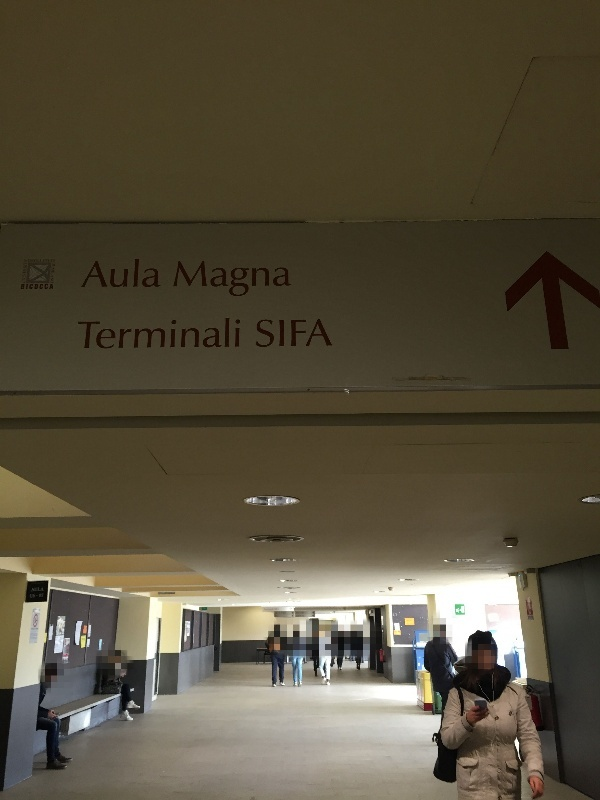text: (193, 260, 208, 299), (209, 260, 224, 299), (225, 260, 240, 299), (241, 260, 256, 299), (257, 260, 272, 299), (273, 260, 288, 299), (225, 318, 241, 351), (179, 260, 192, 299), (81, 318, 96, 351), (97, 318, 112, 351), (113, 318, 128, 351), (129, 318, 144, 351), (145, 318, 160, 351), (161, 318, 176, 351), (177, 318, 192, 351), (193, 318, 208, 351), (209, 318, 224, 351), (145, 258, 161, 288), (97, 258, 112, 288), (113, 258, 128, 288), (129, 258, 144, 288), (257, 319, 272, 349), (273, 319, 288, 349), (289, 319, 304, 349), (305, 319, 320, 349), (321, 319, 332, 349), (289, 260, 296, 299), (50, 627, 64, 640), (25, 259, 32, 284), (53, 263, 64, 275), (100, 639, 112, 650), (56, 637, 64, 653), (51, 275, 64, 284), (77, 318, 80, 351), (33, 284, 48, 289), (33, 593, 44, 599), (77, 623, 80, 644), (33, 588, 48, 592), (185, 623, 192, 631), (188, 622, 192, 635), (22, 284, 32, 289), (313, 626, 320, 633), (275, 614, 288, 617), (84, 627, 96, 630), (295, 611, 304, 615), (49, 258, 56, 263), (33, 633, 38, 640), (33, 259, 41, 263), (264, 607, 272, 611), (95, 258, 96, 288), (395, 624, 400, 630), (406, 619, 416, 622), (82, 638, 96, 640), (49, 284, 54, 289), (43, 258, 48, 263), (529, 616, 534, 621), (273, 607, 279, 611), (276, 612, 288, 614), (81, 623, 82, 644), (203, 607, 208, 611), (33, 628, 39, 631), (314, 622, 320, 625), (296, 615, 304, 617), (29, 259, 32, 263), (30, 593, 32, 599), (31, 633, 32, 640)
